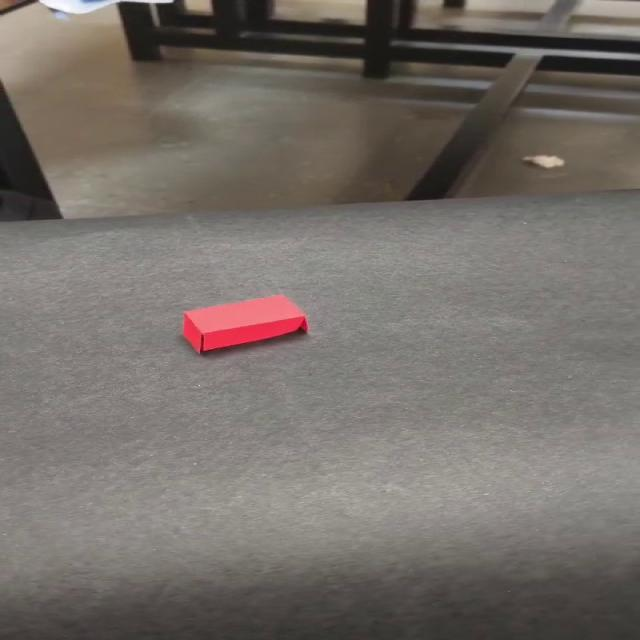red block: (180, 293, 308, 354)
